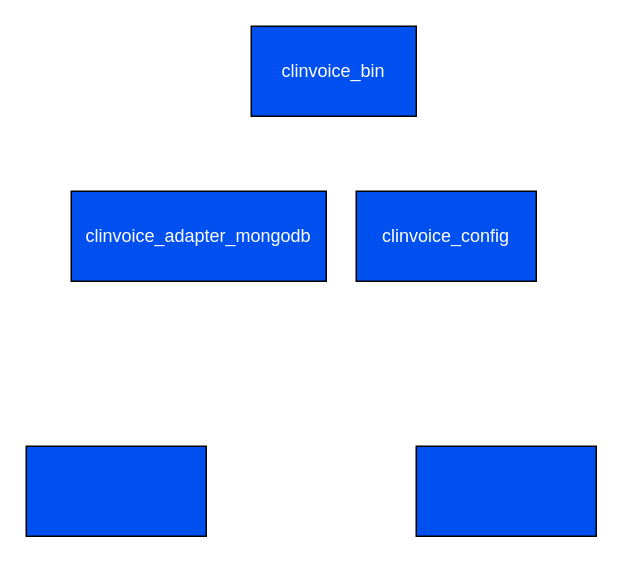
This 623x563 diagram has some shape labels left out. Here are the shapes that lost their labels. From the top down, the box of each, then its label:
(25, 445, 206, 536): clinvoice_adapter
(415, 445, 596, 536): clinvoice_data
